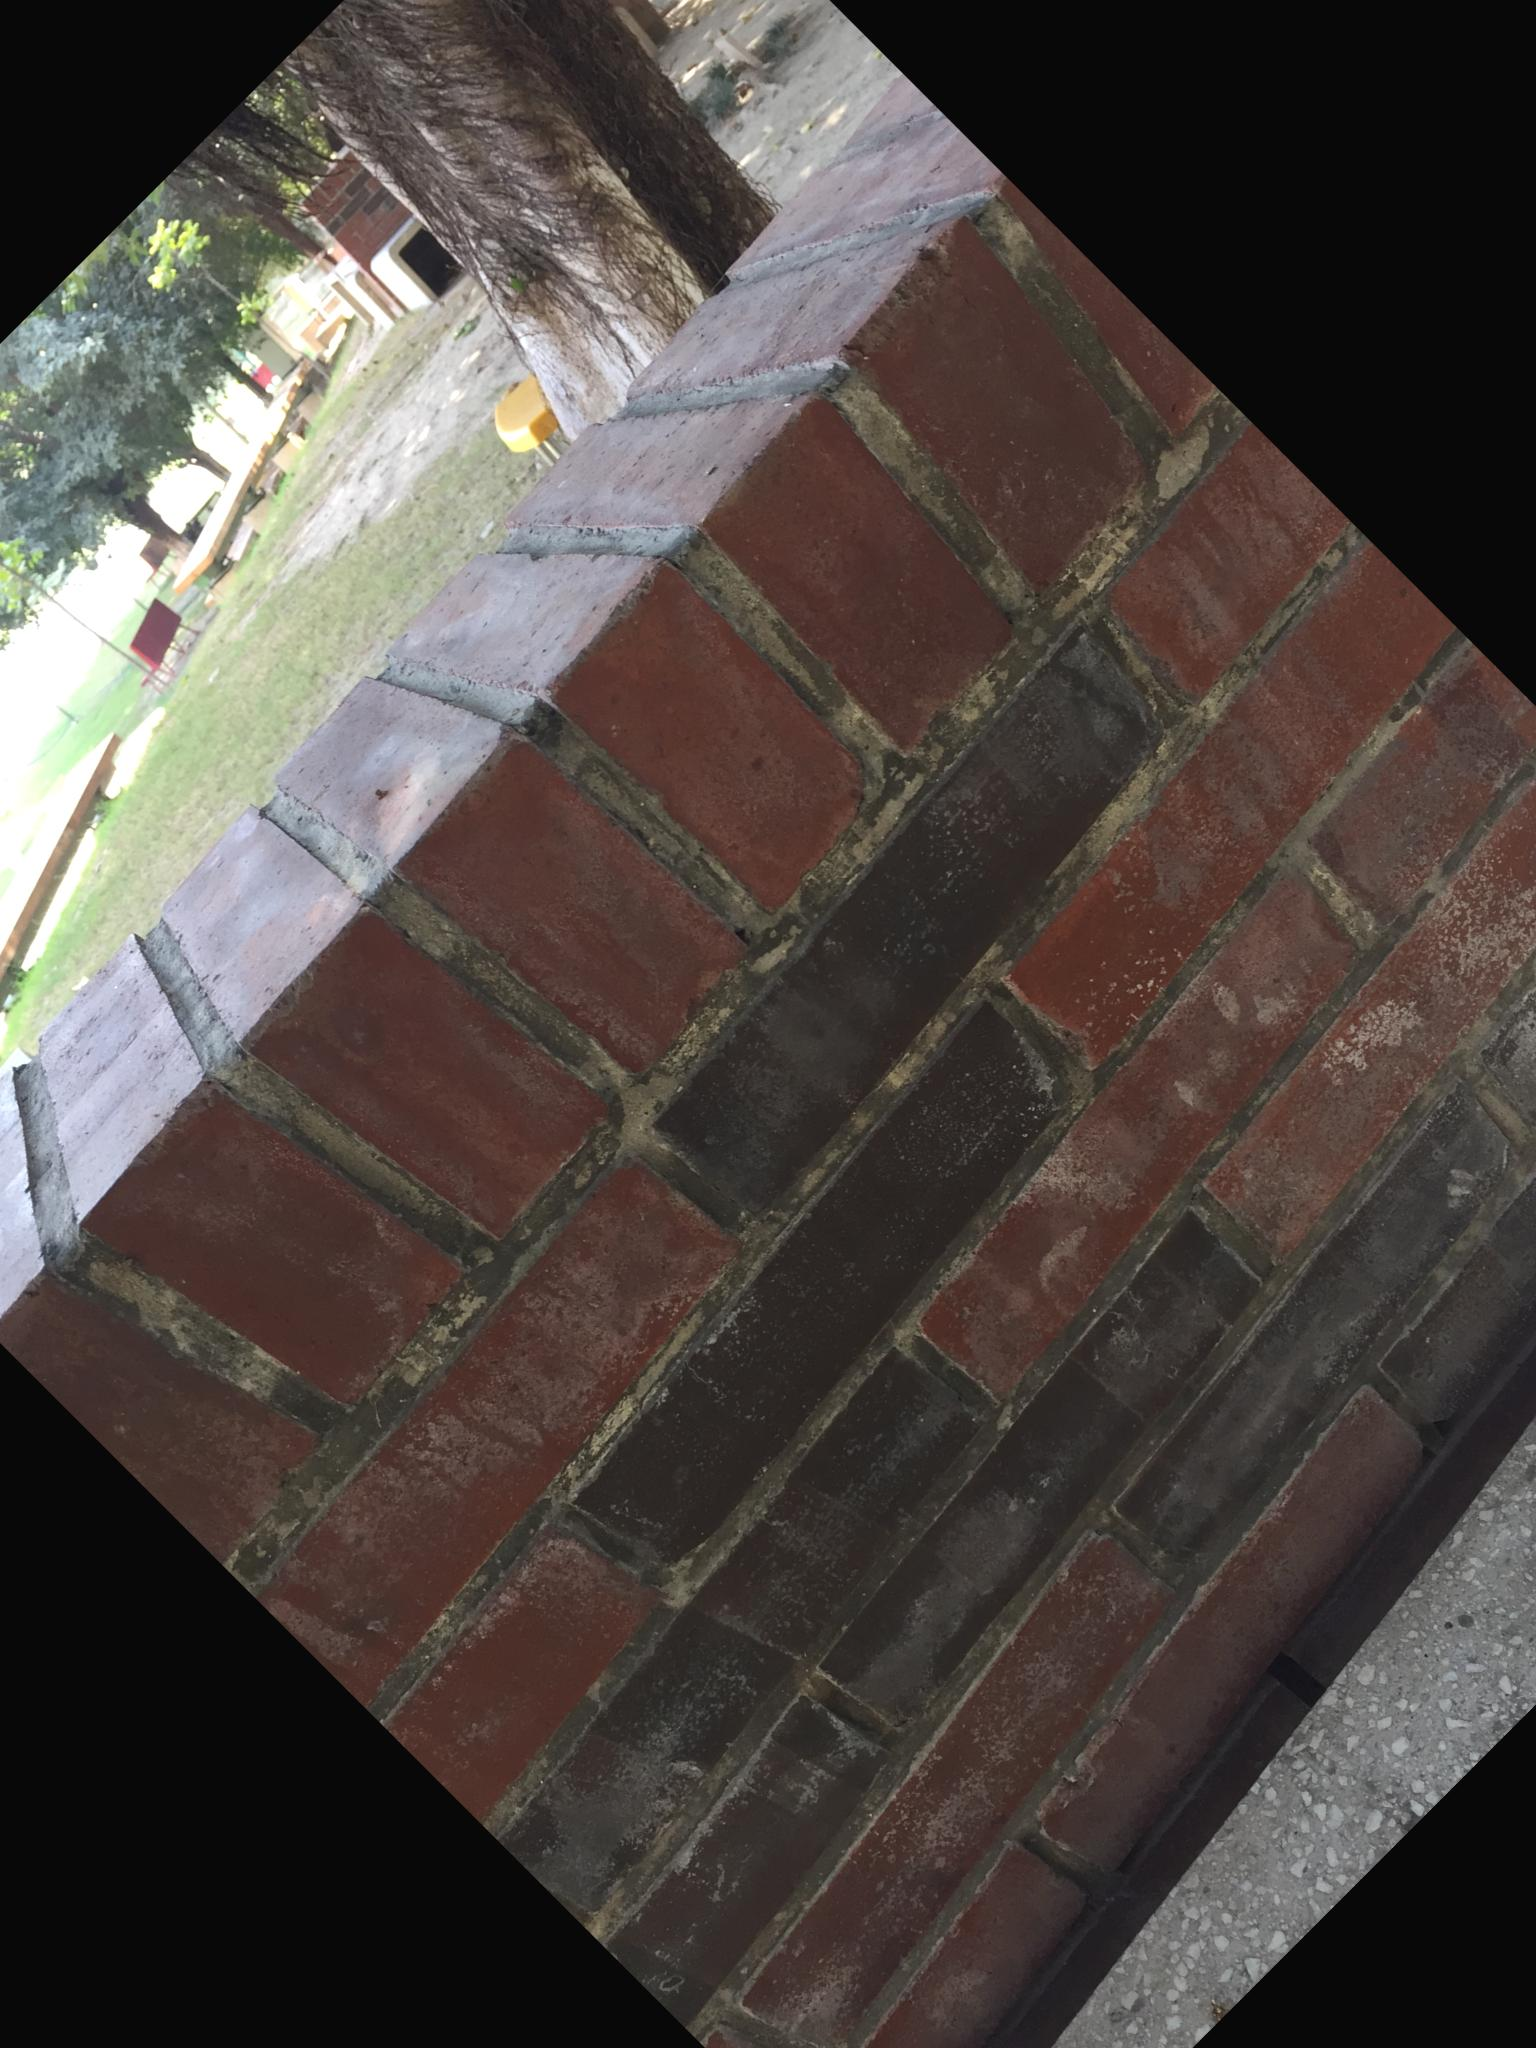chair: (342, 82, 773, 514)
